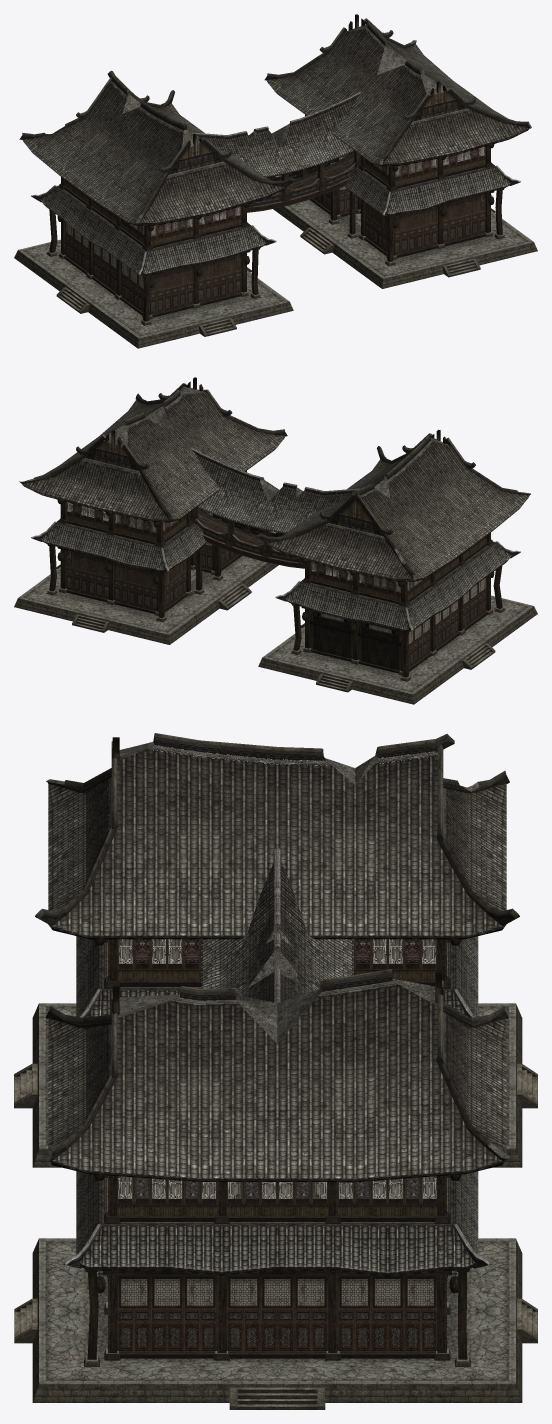
Rendered from ep-009-hotel.glb.
3 views of the same model, one above another, from view 1: azimuth 30°, elevation 25°; view 2: azimuth 150°, elevation 25°; view 3: azimuth 270°, elevation 25° (orthographic). The views are drawn at different scales.
Parts seen in each view (by area): view 1: ep-009-hotel03; view 2: ep-009-hotel03; view 3: ep-009-hotel03.
Boxes of the visible parts, left/top/right/bottom form: ep-009-hotel03: left=14, top=14, right=537, bottom=348; ep-009-hotel03: left=14, top=377, right=537, bottom=704; ep-009-hotel03: left=14, top=733, right=537, bottom=1409.
Bounding box in the file's own units: 35.89 × 15.09 × 19.9.
3 materials, 3 textured.
